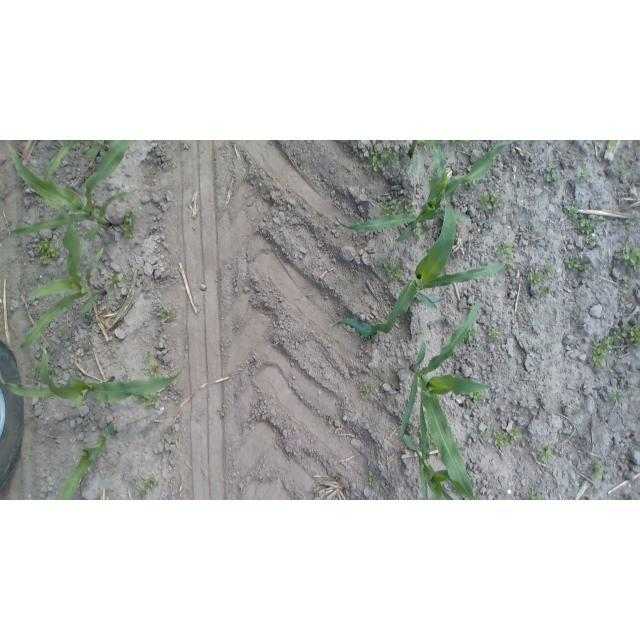Maize: (340, 198, 504, 338), (402, 295, 495, 500), (334, 141, 514, 243), (5, 142, 139, 243), (18, 200, 107, 349), (5, 346, 188, 412), (56, 422, 118, 499)
Weeds: (591, 337, 614, 369), (491, 427, 521, 450), (620, 240, 640, 274), (378, 200, 414, 217), (34, 240, 59, 263), (578, 219, 600, 245), (380, 258, 402, 283), (153, 305, 177, 327), (618, 325, 640, 348), (480, 192, 504, 213), (123, 209, 139, 240), (566, 256, 593, 271), (471, 421, 492, 439), (597, 461, 612, 484), (143, 475, 165, 489), (498, 242, 513, 262), (133, 484, 151, 499), (548, 167, 561, 187), (543, 265, 559, 281), (359, 380, 378, 393), (369, 473, 382, 492), (539, 448, 554, 463), (536, 286, 551, 301), (566, 204, 580, 220), (386, 149, 399, 166), (468, 392, 488, 403), (140, 396, 161, 406), (148, 364, 165, 376), (328, 411, 339, 429), (369, 154, 383, 168), (485, 328, 499, 342), (611, 391, 626, 404), (617, 376, 633, 388), (166, 422, 178, 438), (108, 274, 120, 286), (526, 490, 540, 499), (572, 308, 581, 322), (531, 272, 542, 283), (624, 276, 632, 289), (629, 393, 640, 401), (522, 296, 531, 304), (174, 395, 180, 406), (468, 334, 476, 342), (547, 412, 554, 420), (619, 294, 626, 301)
